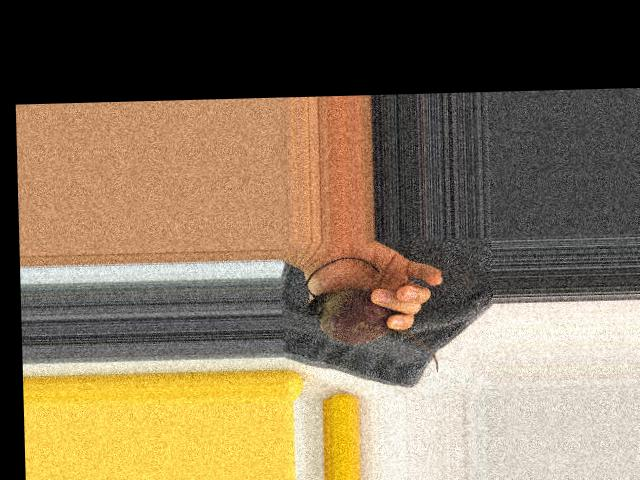beet: (306, 254, 438, 375)
